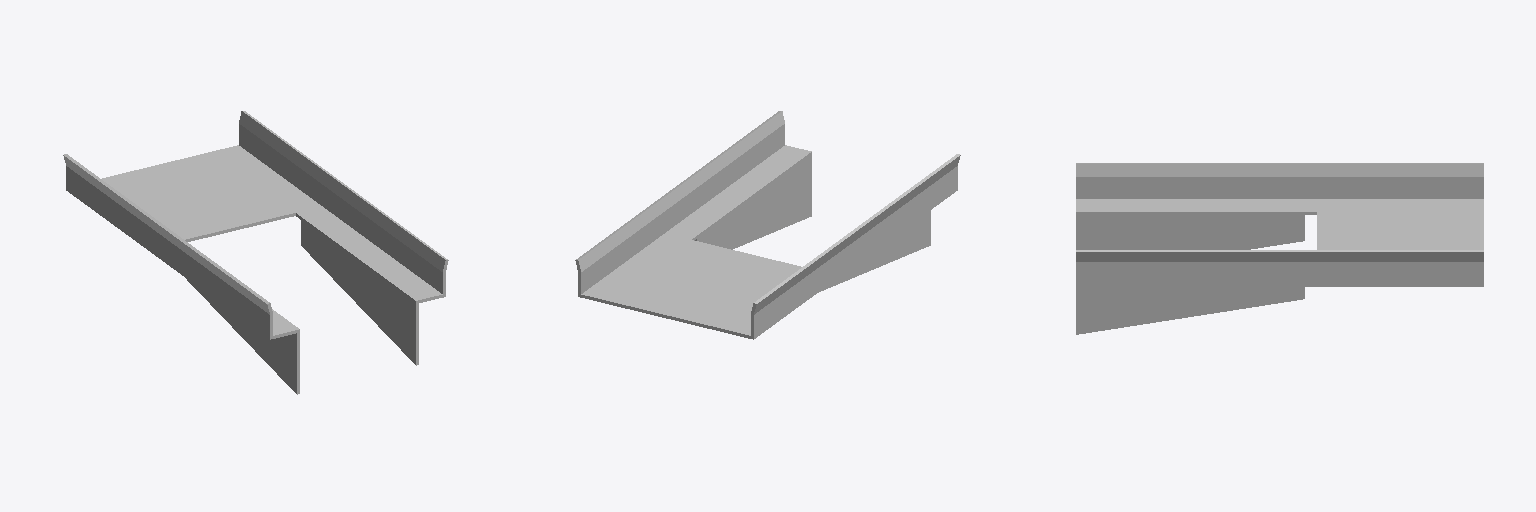
File: vorlage_wanne_a2_0__10_1_1.obj
3 views of the same model, side by side, from view 1: azimuth 30°, elevation 25°; view 2: azimuth 150°, elevation 25°; view 3: azimuth 270°, elevation 25° (orthographic).
Visible parts, largest first — view 1: 0; view 2: 0; view 3: 0.
Part boxes in pixels (x1,y1,x2,y2): 0: (63,111,448,394); 0: (575,111,960,339); 0: (1076,163,1483,334).
Bounding box in the file's own units: 234 × 122 × 457.